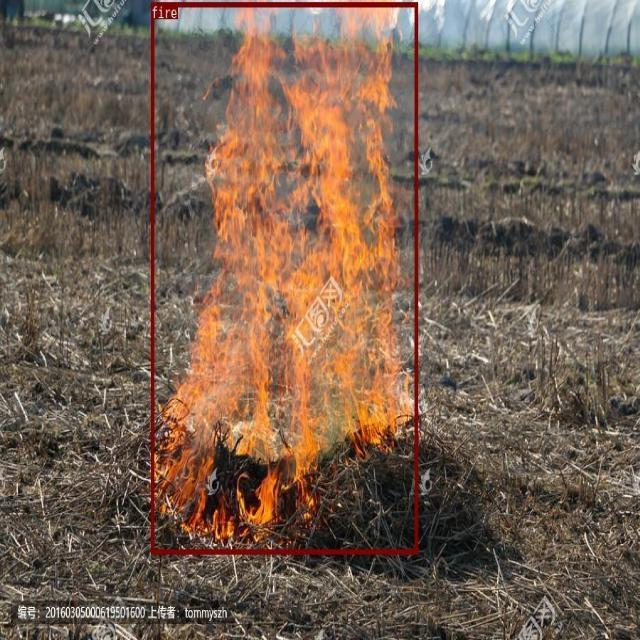fire: (150, 2, 417, 553)
